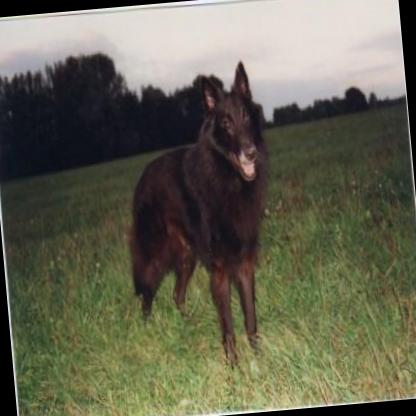groenendael: (113, 58, 286, 375)
